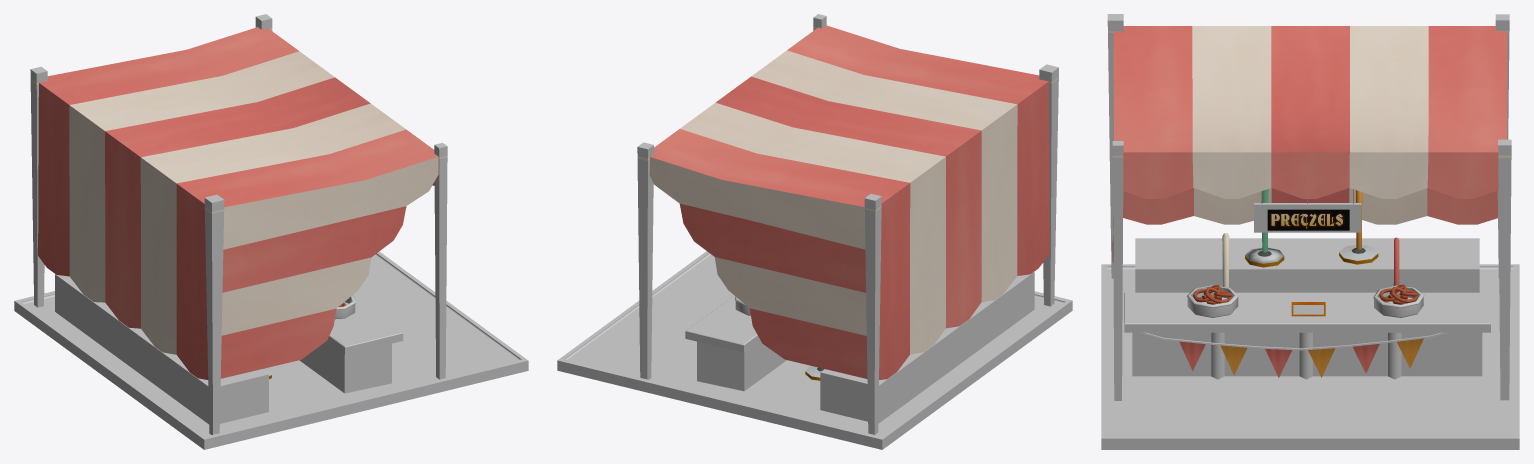
File: Booth_Pretzelgame_Art.fbx
3 renders of one model, left to right at view 1: azimuth 30°, elevation 25°; view 2: azimuth 150°, elevation 25°; view 3: azimuth 270°, elevation 25°, orthographic. The views are drawn at different scales.
Visible parts, largest first — view 1: Oktoberfest_PretzelBooth; view 2: Oktoberfest_PretzelBooth; view 3: Oktoberfest_PretzelBooth.
Boxes of the visible parts, x1,y1,x2,y2 form: Oktoberfest_PretzelBooth: [14, 14, 528, 449]; Oktoberfest_PretzelBooth: [557, 14, 1072, 449]; Oktoberfest_PretzelBooth: [1101, 14, 1519, 449].
Size of what is drawn, in the model's own units: 651 by 465 by 660.
